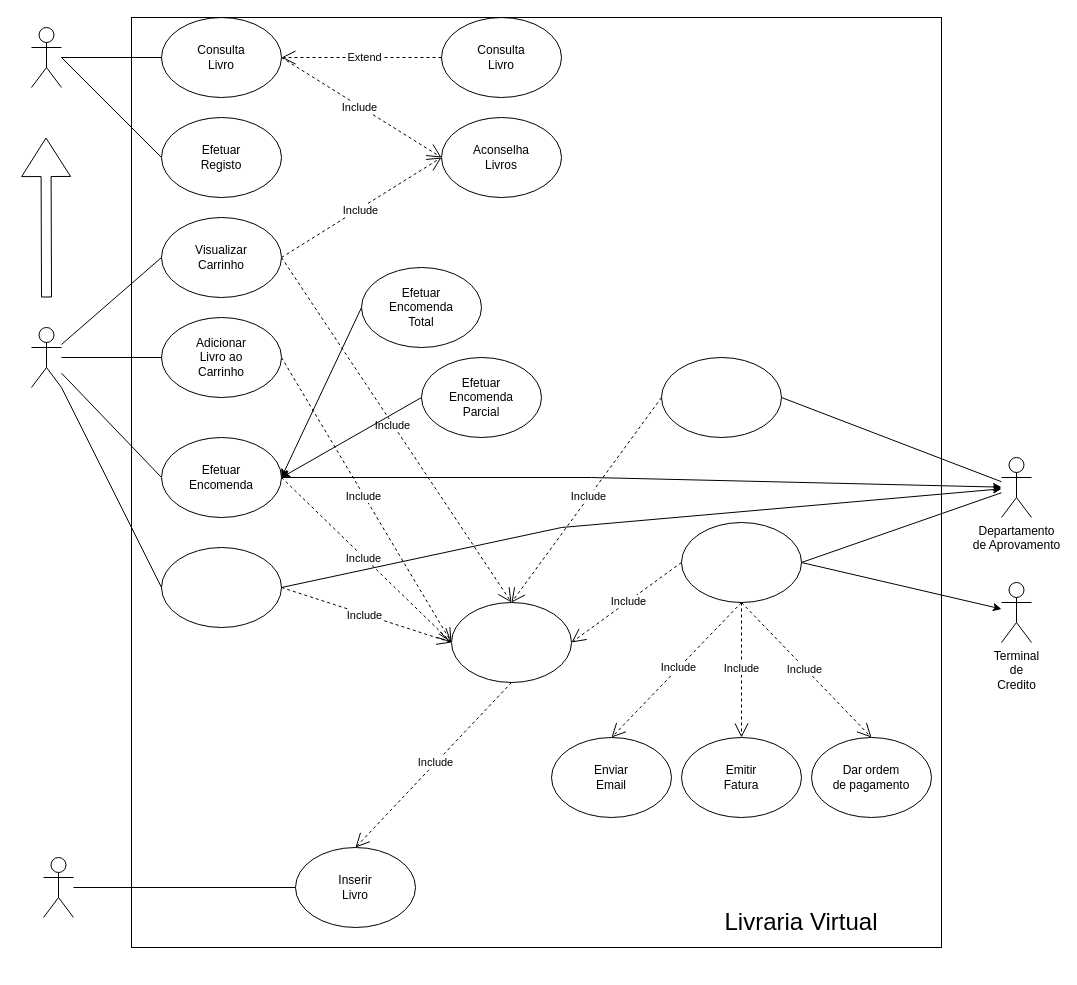
Some shapes in this 1077 by 985 pixel diagram are drawn without their labels. Each missing label, with the centre of its shape:
Anular Encomenda: point (221, 587)
Cibernauta: point (46, 57)
Cliente: point (46, 357)
Departamento de pesquisa de mercado: point (58, 887)
Enviar Encomenda: point (741, 562)
Gestão de Stock: point (721, 397)
Validar Acesso: point (511, 642)
